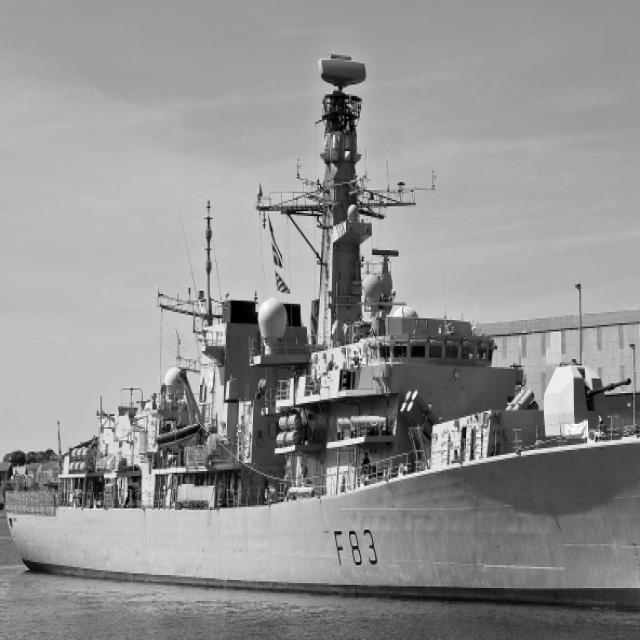Fragata: (3, 42, 640, 627)
